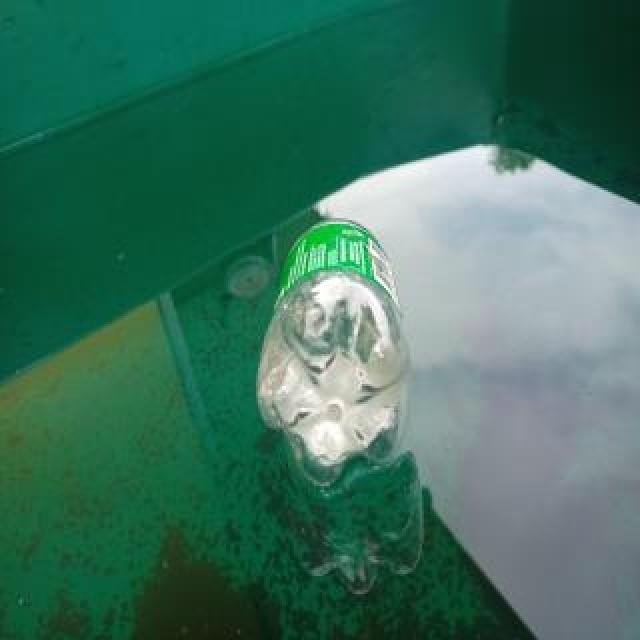Plastic Bottle: (253, 213, 413, 485)
